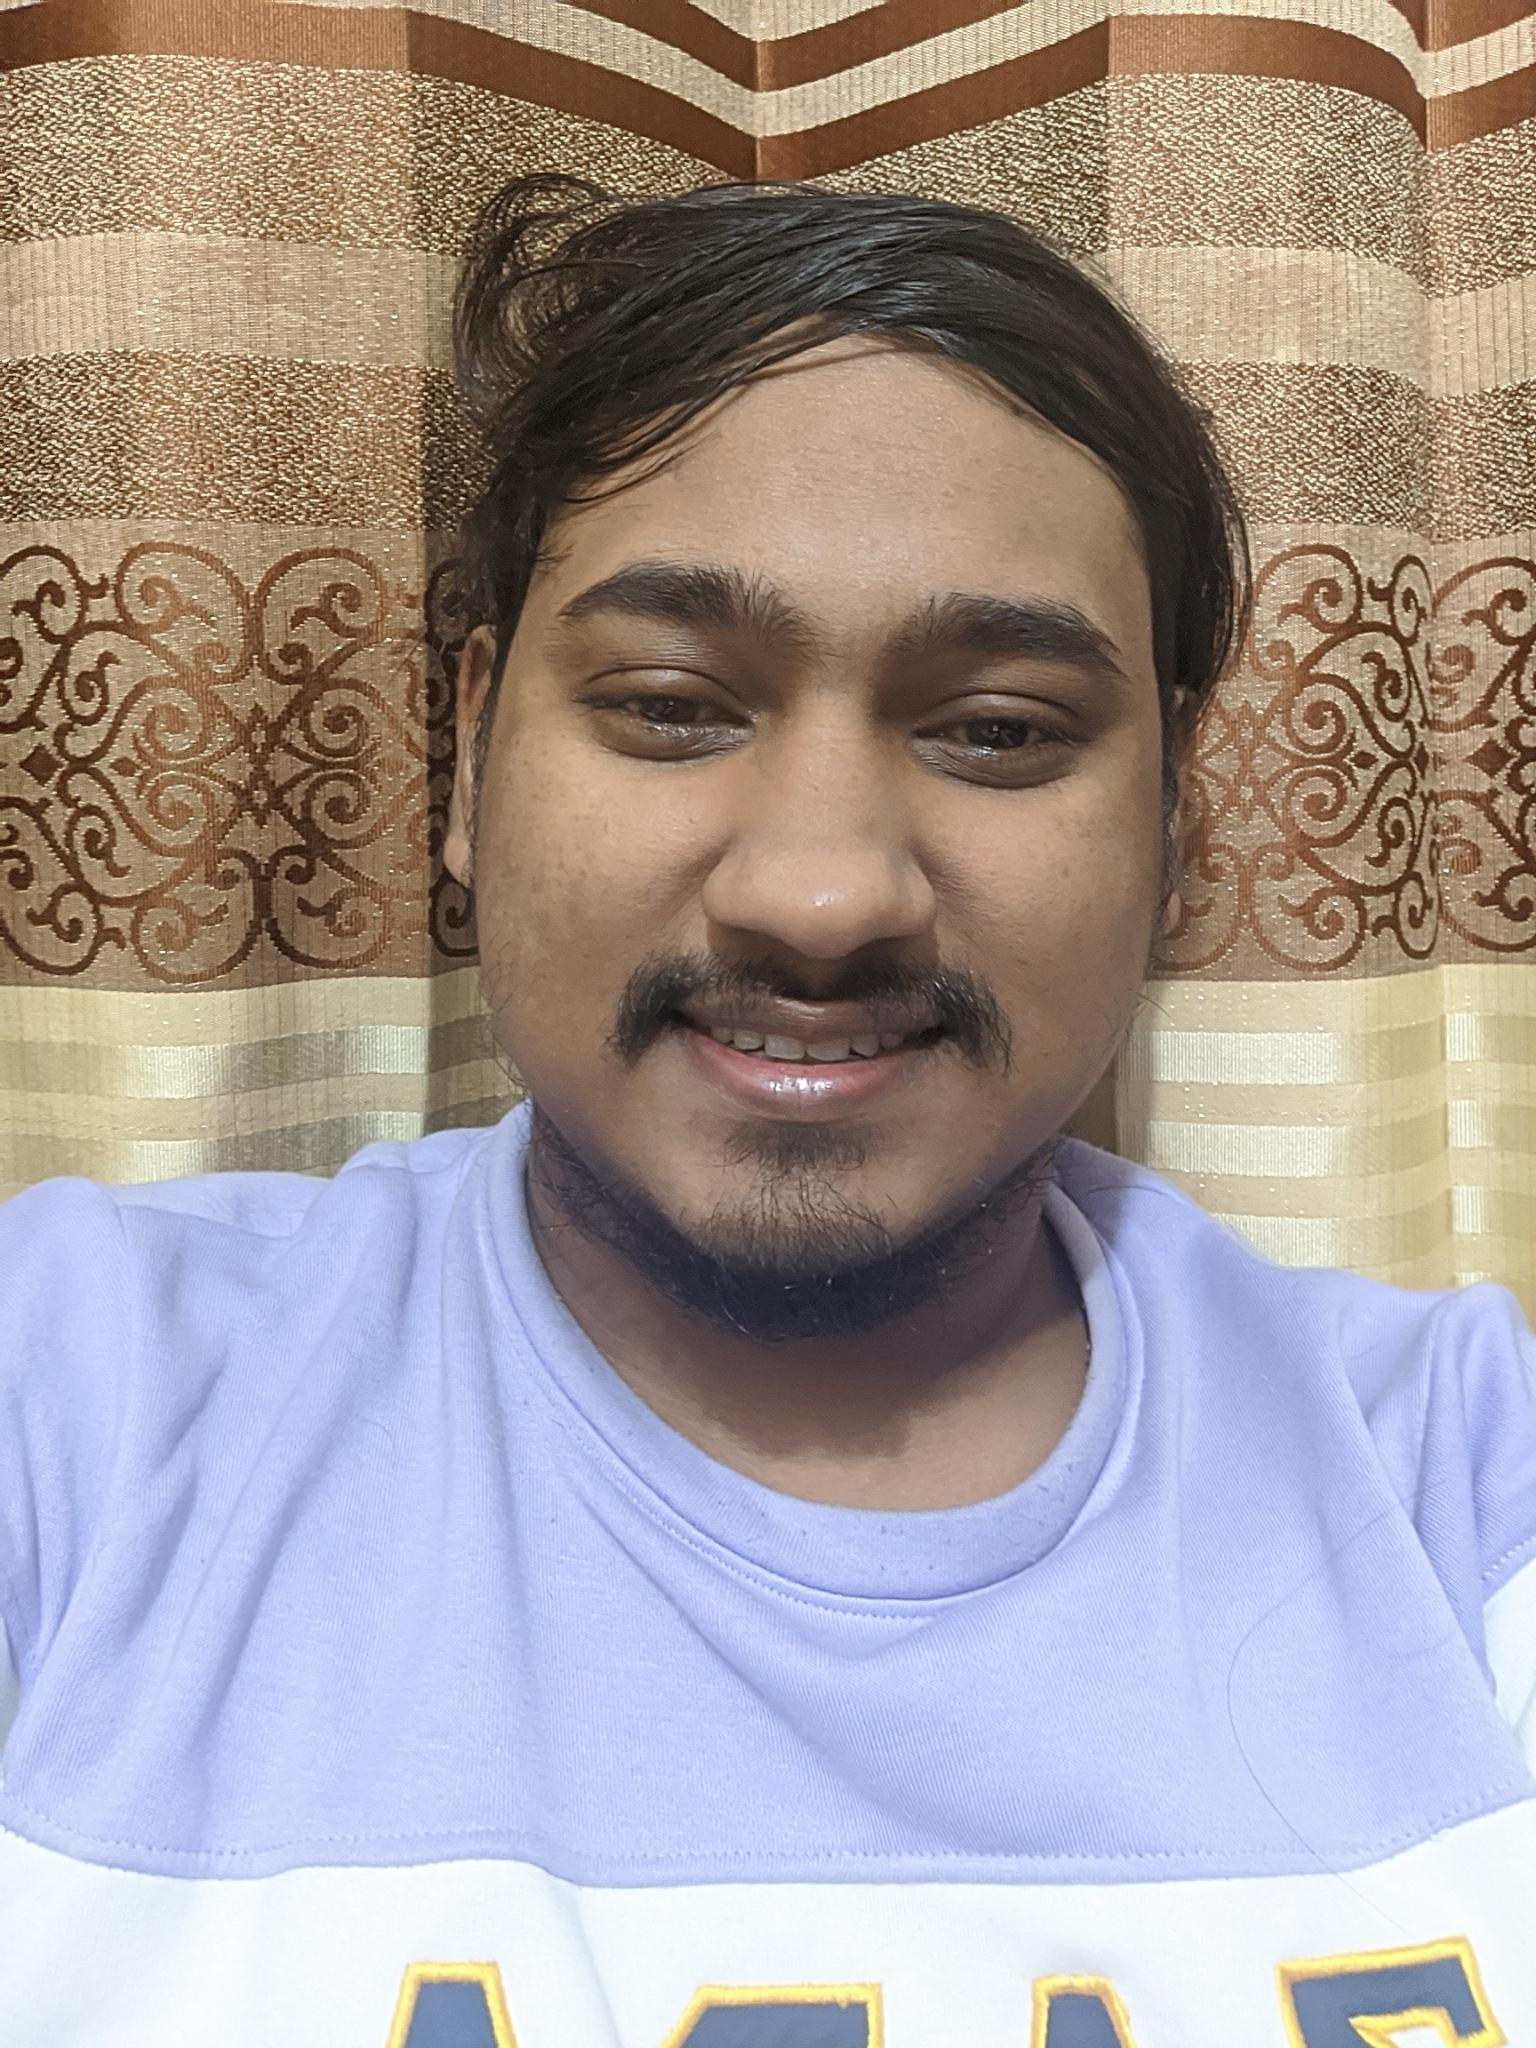Happy: (478, 460, 1141, 1279)
